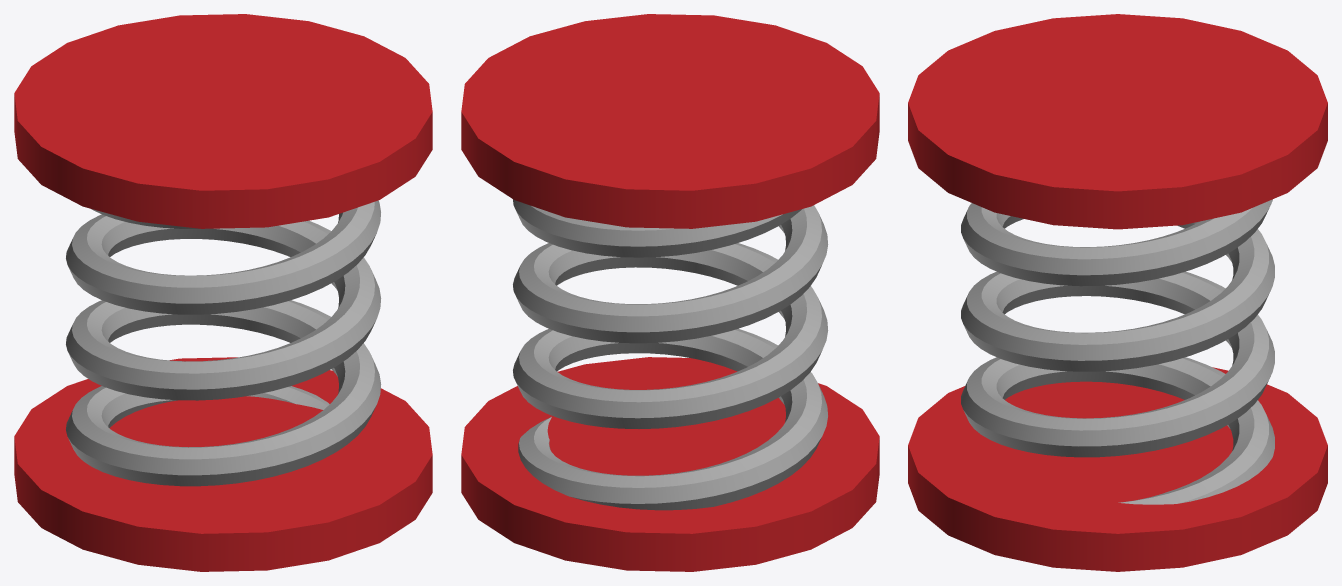
Rendered from Trap_Sprint.fbx.
3 views of the same model, side by side, from view 1: azimuth 30°, elevation 25°; view 2: azimuth 150°, elevation 25°; view 3: azimuth 270°, elevation 25° (orthographic).
Parts seen in each view (by area): view 1: Sprint; view 2: Sprint; view 3: Sprint.
Boxes of the visible parts, x1,y1,x2,y2 form: Sprint: (14,14,432,571); Sprint: (461,14,879,571); Sprint: (908,14,1327,571).
Bounding box in the file's own units: 0.2 × 0.2 × 0.2.
